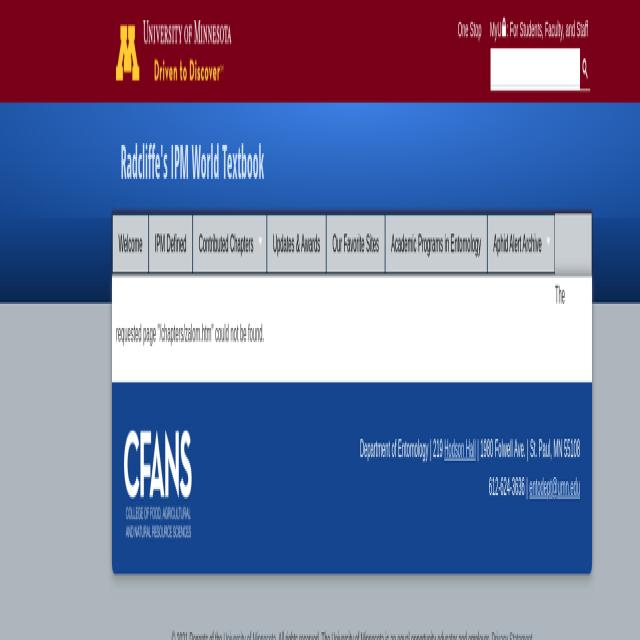button: (115, 12, 230, 95), (124, 430, 192, 538), (385, 213, 487, 274), (192, 213, 266, 274), (487, 213, 555, 274), (267, 213, 326, 274), (326, 213, 385, 274), (148, 213, 192, 274), (112, 213, 149, 274), (581, 50, 590, 89)
field: (490, 48, 580, 91)
